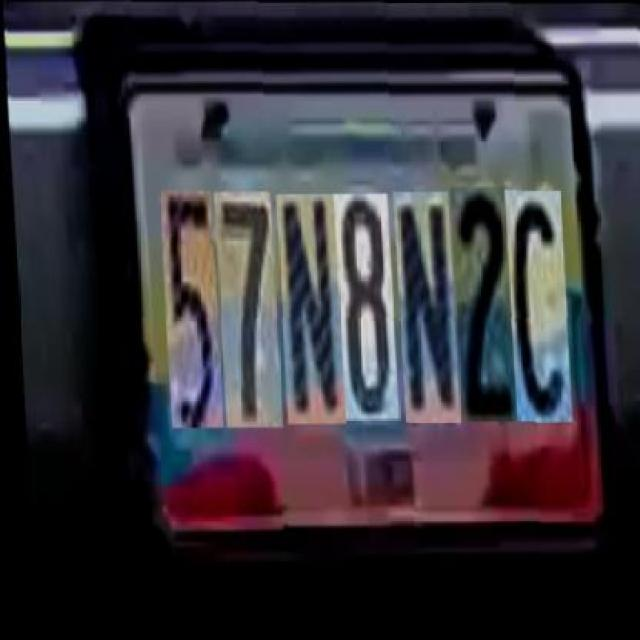2: (447, 184, 511, 418)
5: (156, 189, 218, 426)
7: (210, 190, 278, 427)
8: (330, 191, 395, 417)
c: (501, 185, 567, 418)
n: (272, 192, 340, 422), (390, 188, 455, 420)
